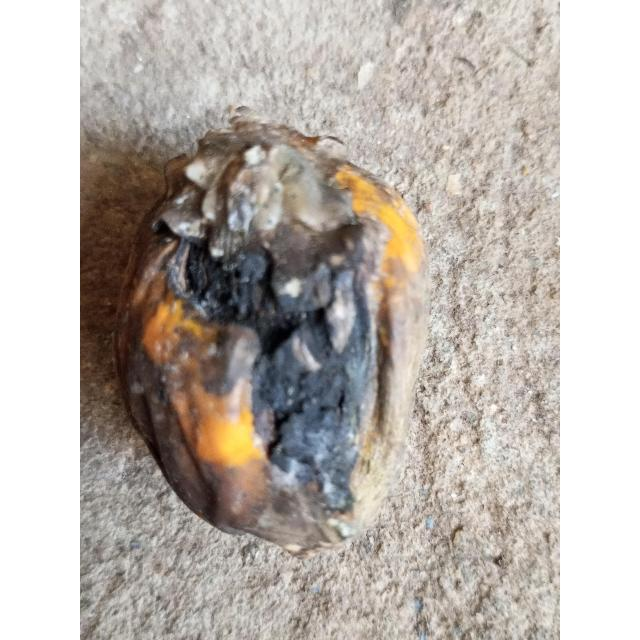damaged: (114, 119, 430, 560)
